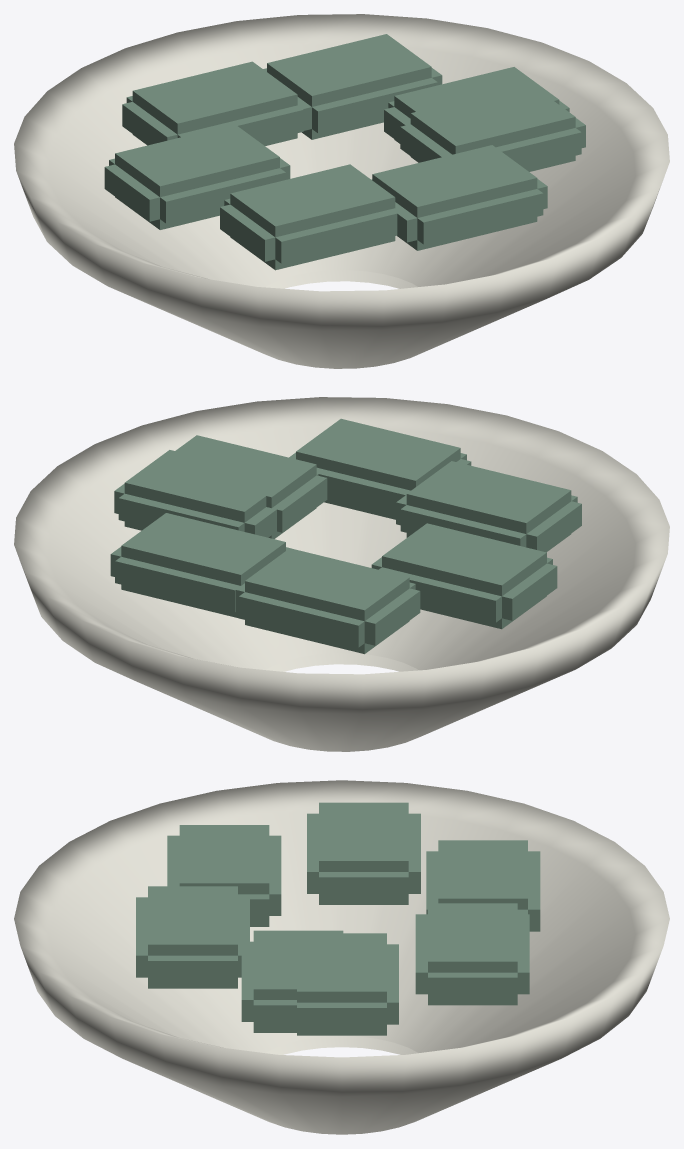
Rendered from sku_v23_salad.glb.
3 views of the same model, one above another, from view 1: azimuth 30°, elevation 25°; view 2: azimuth 150°, elevation 25°; view 3: azimuth 270°, elevation 25° (orthographic).
Visible parts, largest first — view 1: sku_v23_salad_Glazed_ceramic_0, sku_v23_salad_V23_soft_sage; view 2: sku_v23_salad_Glazed_ceramic_0, sku_v23_salad_V23_soft_sage; view 3: sku_v23_salad_Glazed_ceramic_0, sku_v23_salad_V23_soft_sage.
Part boxes in pixels (x1=…): sku_v23_salad_Glazed_ceramic_0: x1=14, y1=14, x2=669, y2=368; sku_v23_salad_V23_soft_sage: x1=104, y1=34, x2=585, y2=270; sku_v23_salad_Glazed_ceramic_0: x1=14, y1=397, x2=669, y2=751; sku_v23_salad_V23_soft_sage: x1=110, y1=418, x2=581, y2=654; sku_v23_salad_Glazed_ceramic_0: x1=14, y1=780, x2=669, y2=1134; sku_v23_salad_V23_soft_sage: x1=136, y1=802, x2=540, y2=1035.
Bounding box in the file's own units: 0.19 × 0.062 × 0.19.
